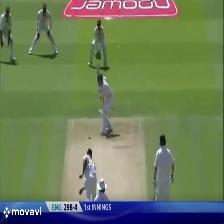ball: (86, 133, 94, 141)
batsman: (93, 64, 116, 138)
